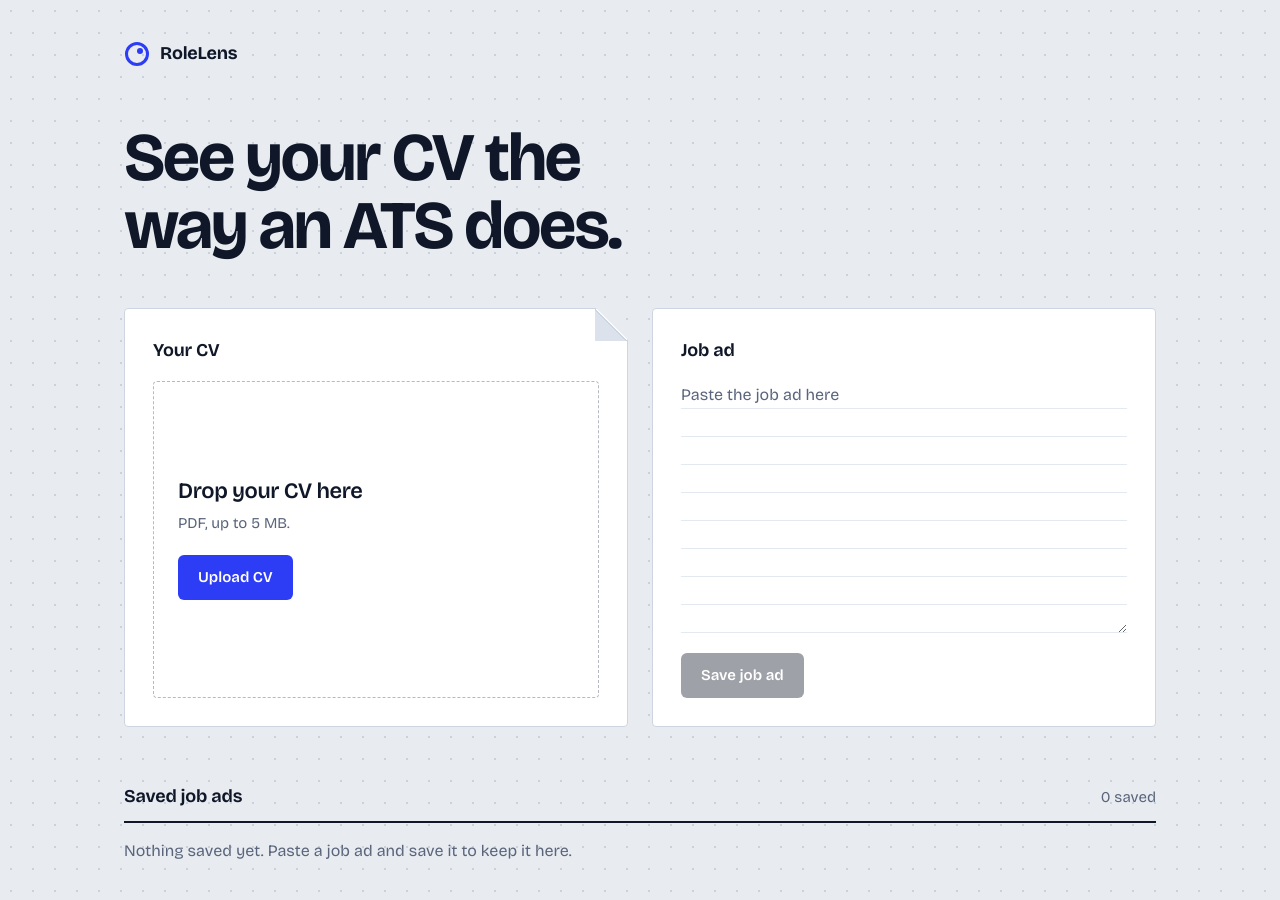
Scenario: saving a job ad › shows the new ad in the list after saving
The width and height of the screenshot is (1280, 900).
Type "Data Engineer" into the text box labelled "Job ad".
click(904, 507); type("Data Engineer")  # box [681,381,1127,633]
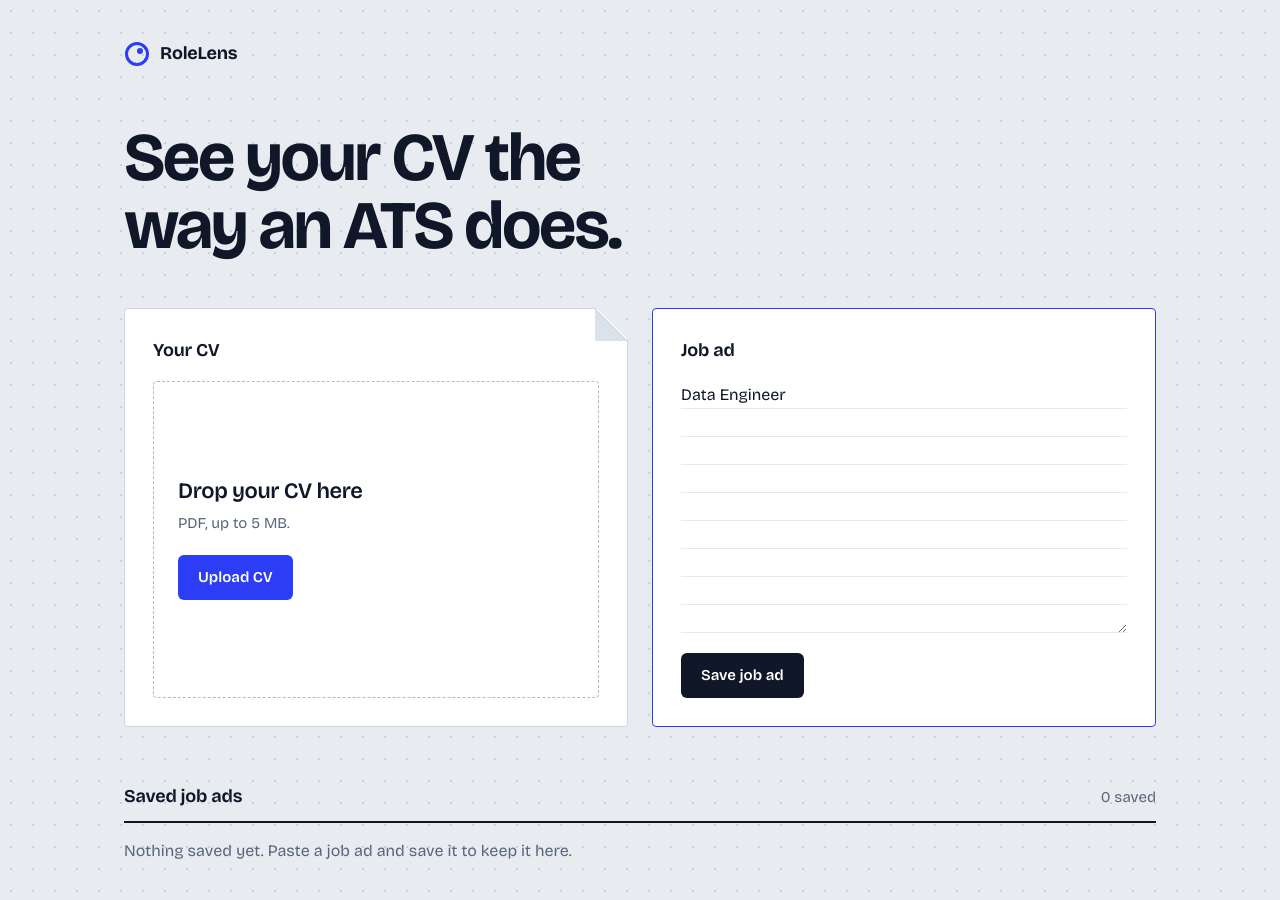
Click the button "Save job ad".
click(742, 675)  # box [681,653,804,698]
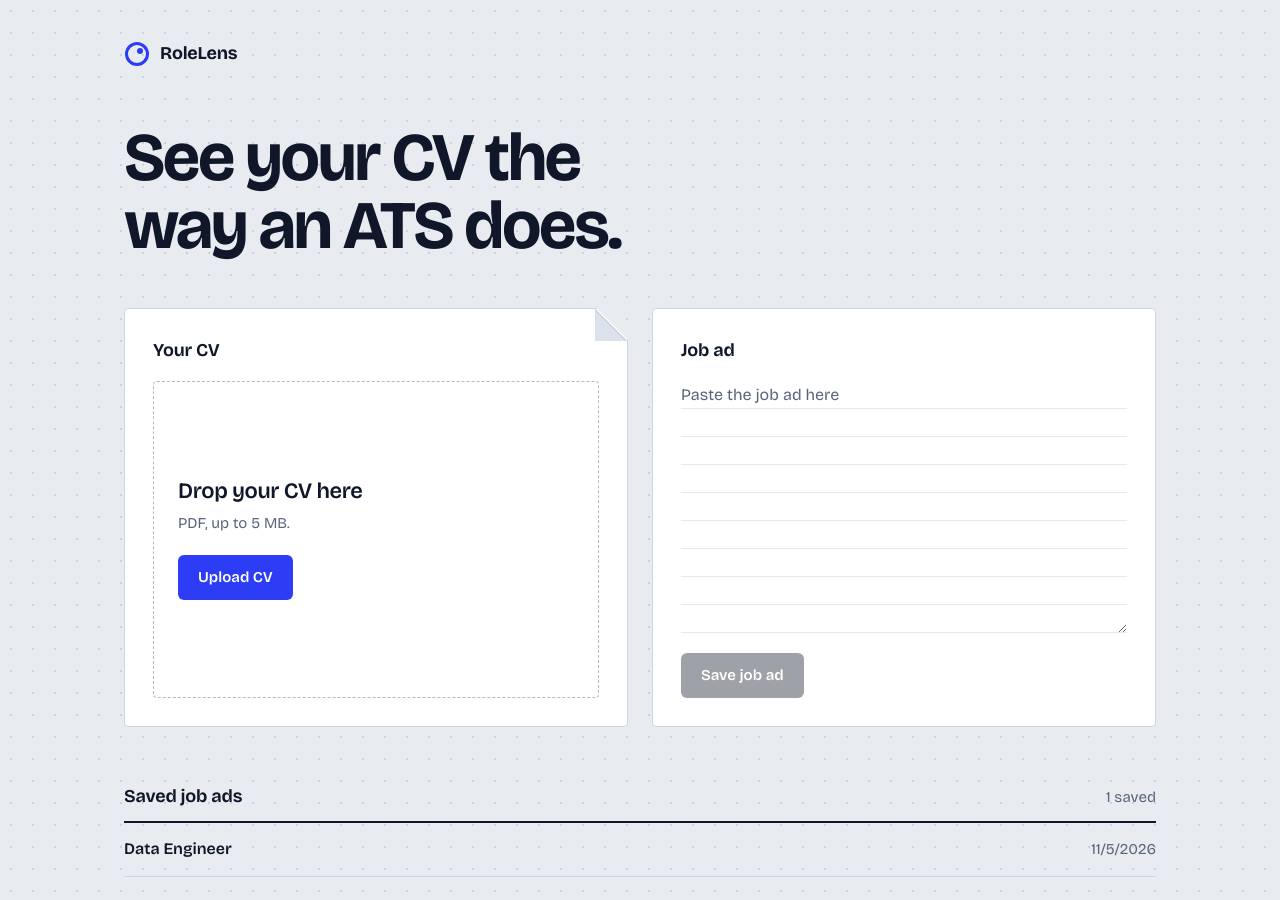
Expected: the text "Data Engineer" is shown, [124,839,232,858]
Expected: the text "1 saved" is shown, [1106,786,1156,809]
